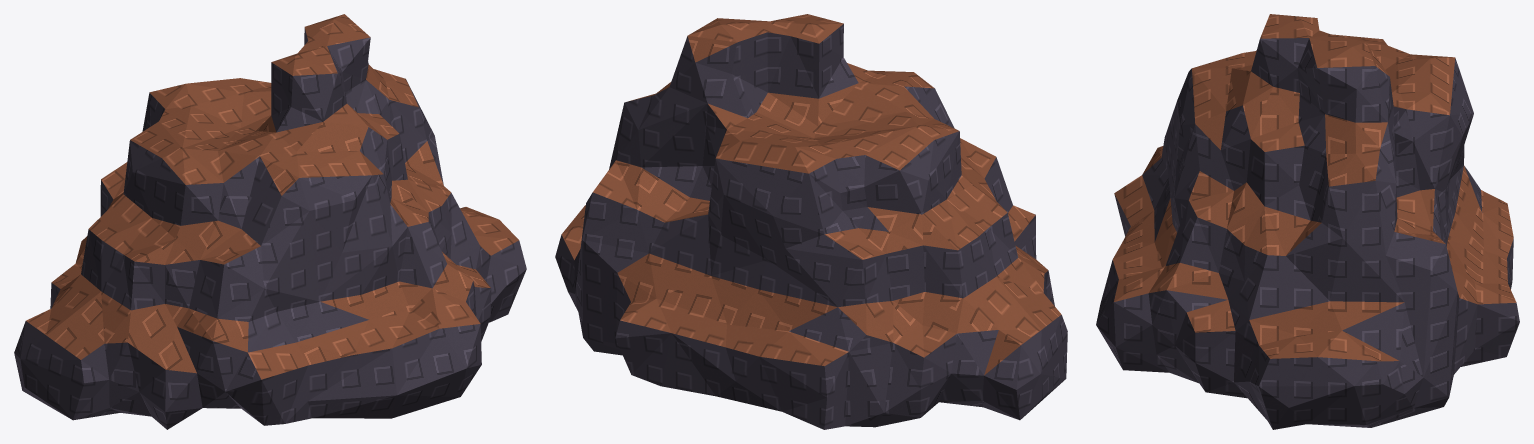
The model's file is BasaltLedge.glb.
3 renders of one model, left to right at view 1: azimuth 30°, elevation 25°; view 2: azimuth 150°, elevation 25°; view 3: azimuth 270°, elevation 25°, orthographic. The views are drawn at different scales.
Visible parts, largest first — view 1: BasaltLedge_Rock, BasaltLedge_Top; view 2: BasaltLedge_Rock, BasaltLedge_Top; view 3: BasaltLedge_Rock, BasaltLedge_Top.
Part boxes in pixels (bbox=[...]): BasaltLedge_Rock: bbox=[14, 28, 526, 429]; BasaltLedge_Top: bbox=[26, 14, 518, 379]; BasaltLedge_Rock: bbox=[555, 24, 1067, 429]; BasaltLedge_Top: bbox=[561, 14, 1061, 375]; BasaltLedge_Rock: bbox=[1096, 38, 1519, 429]; BasaltLedge_Top: bbox=[1112, 14, 1516, 361].
Bounding box in the file's own units: 16.53 × 10.81 × 12.44.
Materials: 2 (2 with a texture image).
